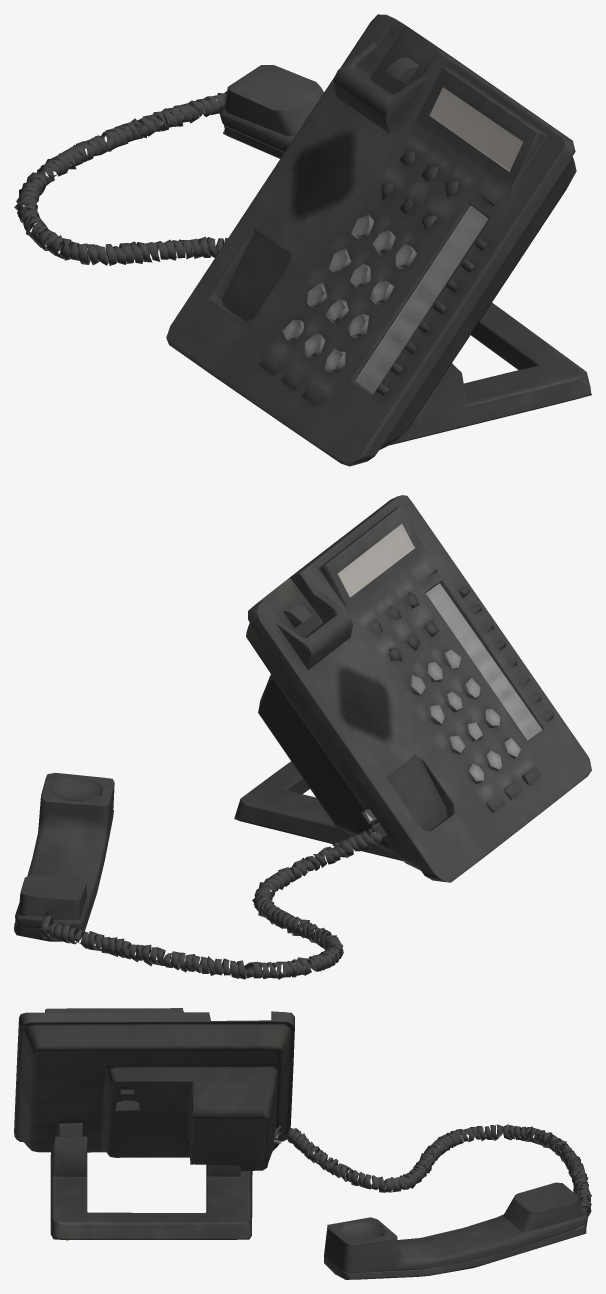
File: SM_Office_Supplies02a.fbx
3 renders of one model, top to bottom at view 1: azimuth 30°, elevation 25°; view 2: azimuth 150°, elevation 25°; view 3: azimuth 270°, elevation 25°, orthographic. The views are drawn at different scales.
Parts seen in each view (by area): view 1: SM_Office_Supplies02a_LOD0; view 2: SM_Office_Supplies02a_LOD0; view 3: SM_Office_Supplies02a_LOD0.
Part boxes in pixels (x1,y1,x2,y2): SM_Office_Supplies02a_LOD0: [14, 14, 591, 466]; SM_Office_Supplies02a_LOD0: [14, 495, 591, 979]; SM_Office_Supplies02a_LOD0: [14, 1008, 591, 1279].
Bounding box in the file's own units: 21.97 × 34.53 × 13.99.
